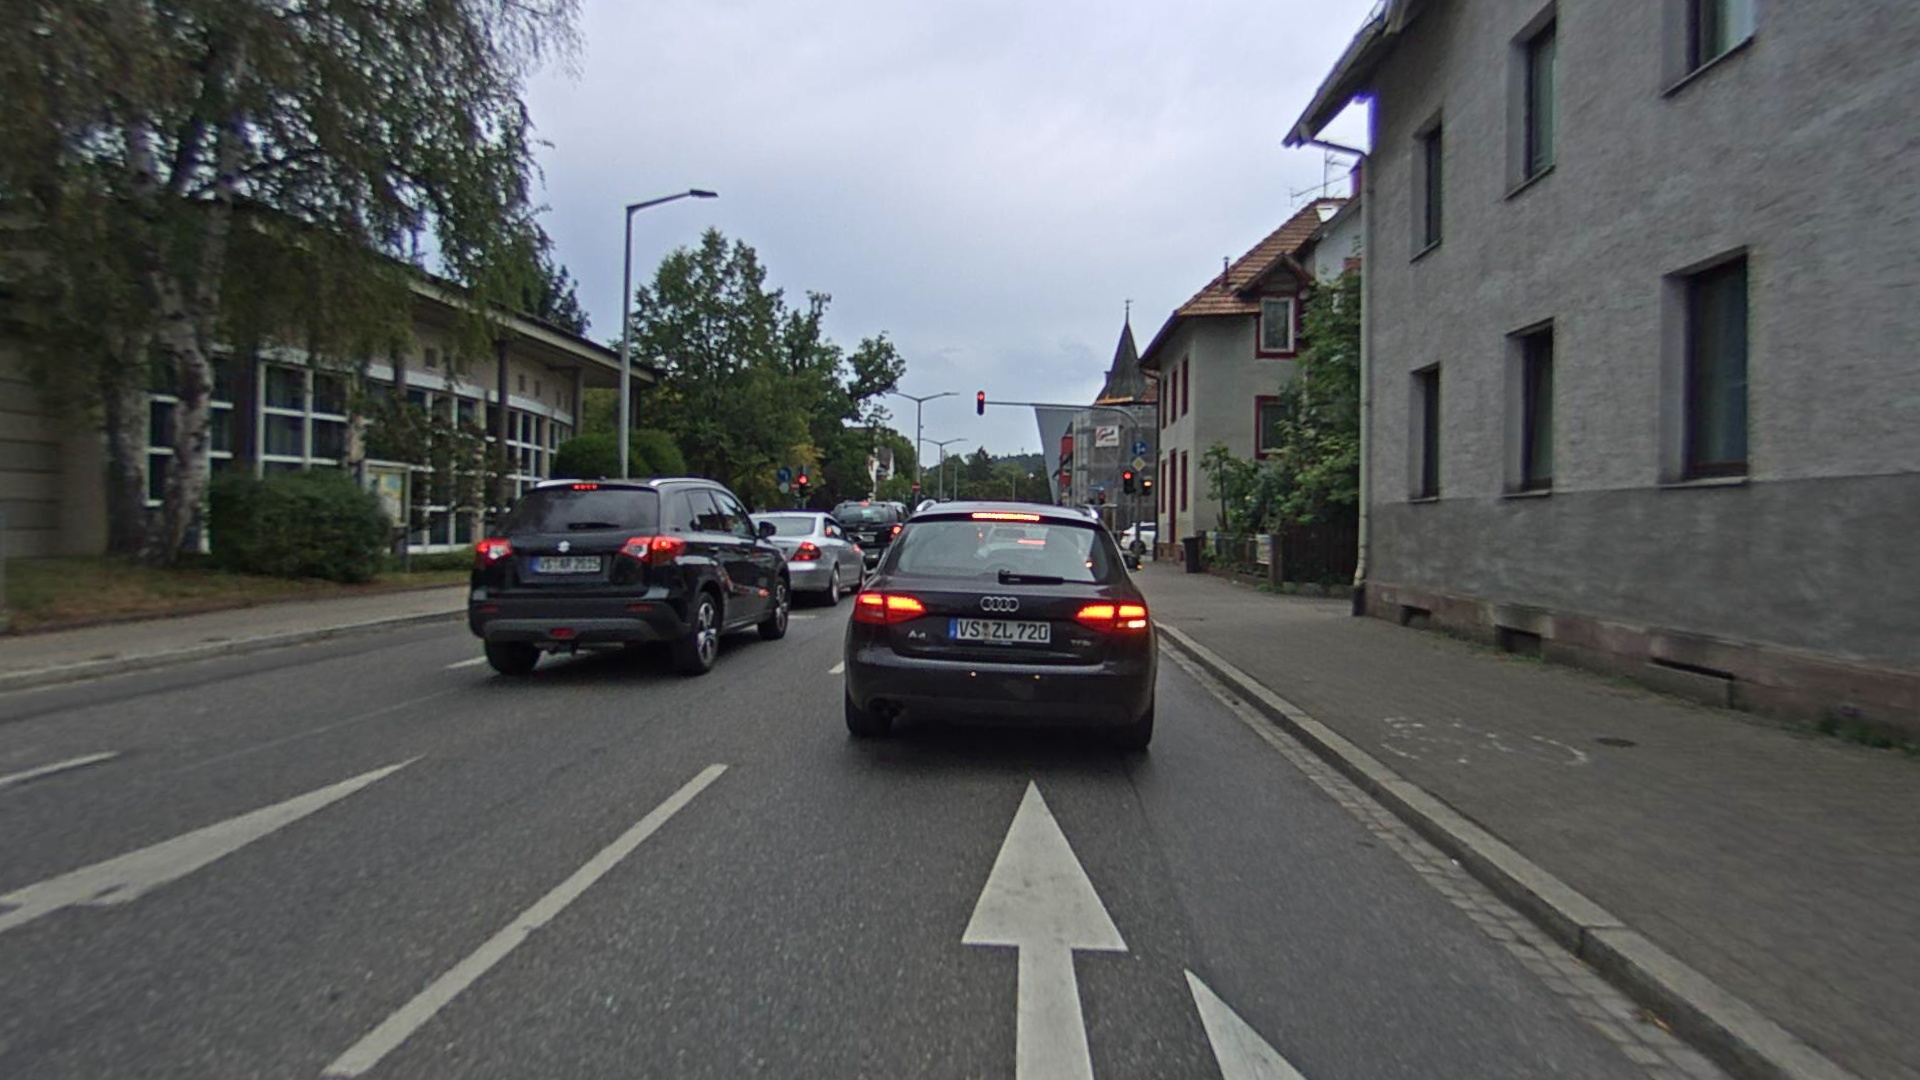car: (840, 509, 1160, 778), (463, 479, 793, 678)
